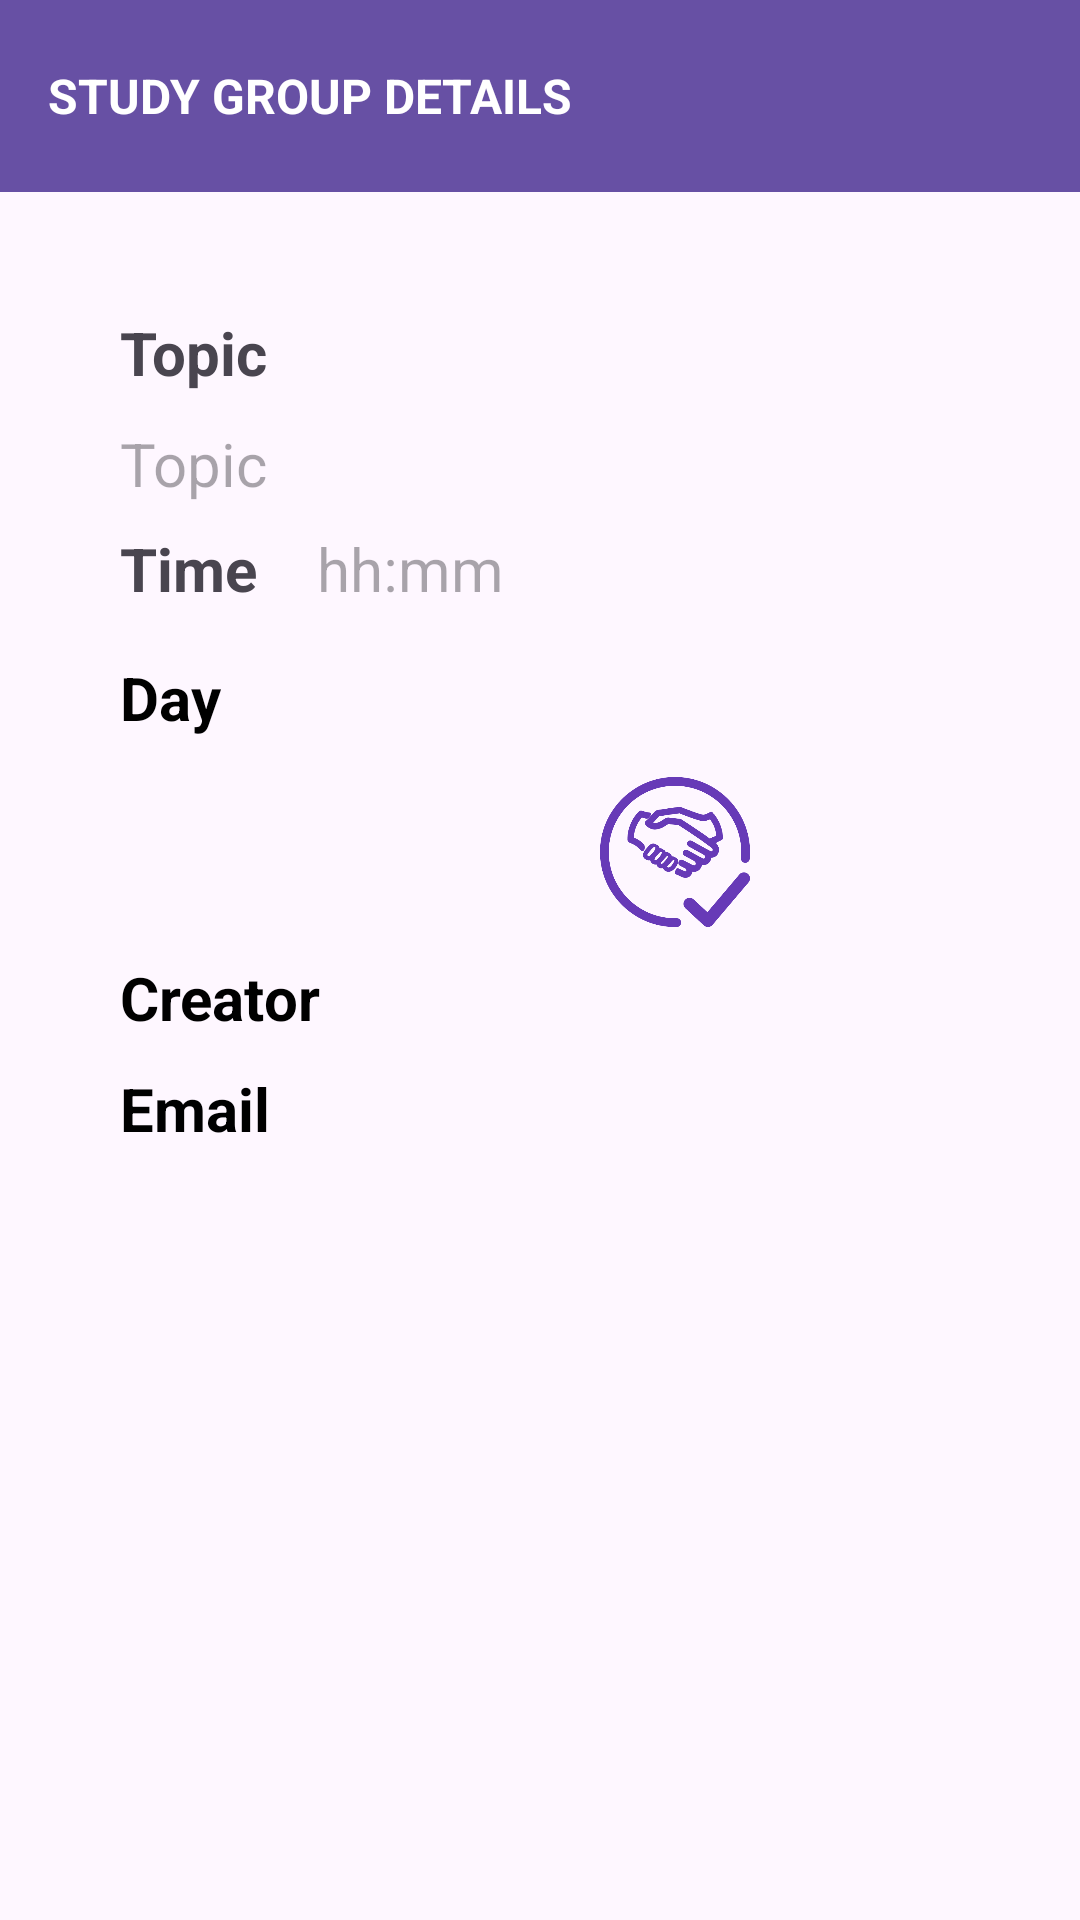

Named icons in this screenshot (1080w x 1920h) and their centers, (x,y):
groupjoin: (675,852)
